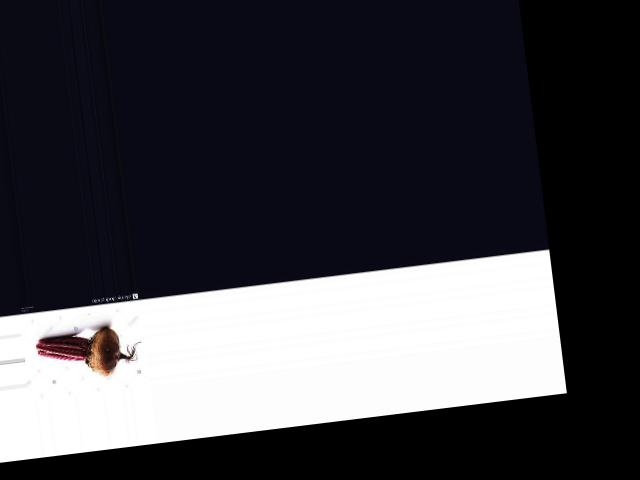beet: (34, 323, 144, 383)
